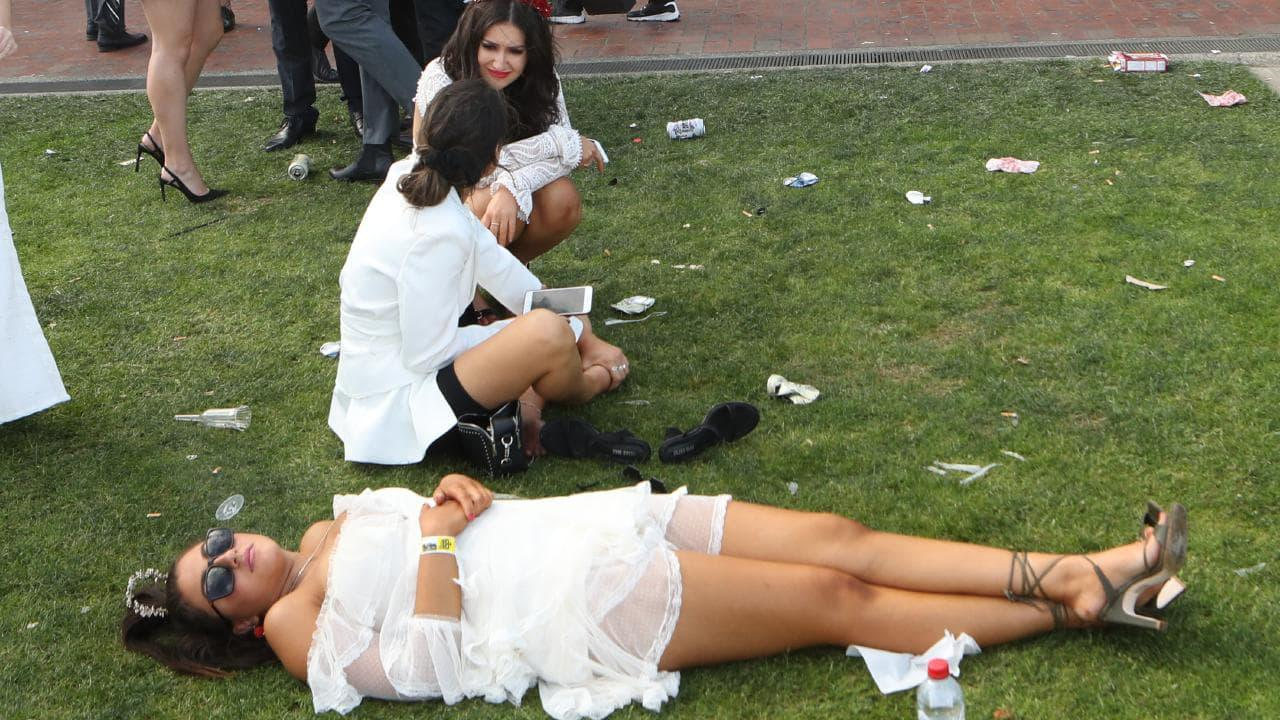Person: (124, 472, 1189, 718), (325, 78, 630, 468)
